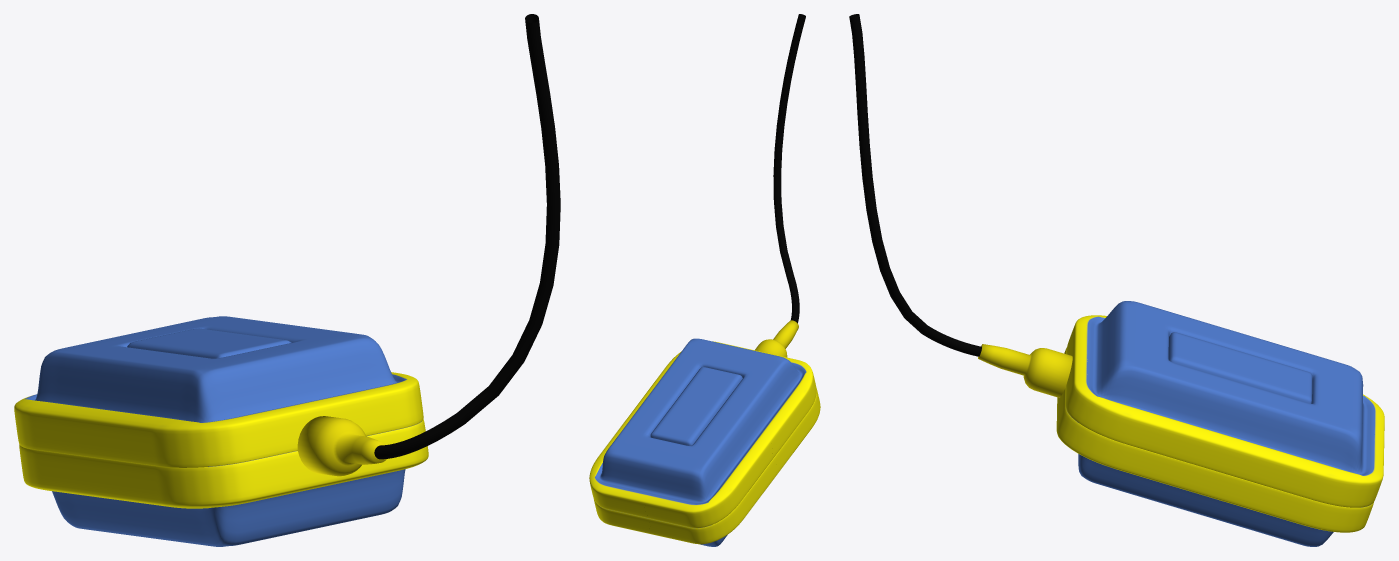
The picture shows the model from 3 angles, left to right: view 1: azimuth 30°, elevation 25°; view 2: azimuth 150°, elevation 25°; view 3: azimuth 270°, elevation 25°; orthographic projection. The views are drawn at different scales.
Visible parts, largest first — view 1: Cube.002, BézierCurve, Cylinder; view 2: Cube.002, BézierCurve, Cylinder; view 3: Cube.002, BézierCurve, Cylinder.
Part boxes in pixels (x1,y1,x2,y2): Cube.002: [14, 316, 428, 546]; BézierCurve: [374, 14, 560, 459]; Cylinder: [297, 416, 386, 476]; Cube.002: [589, 338, 820, 546]; BézierCurve: [773, 14, 805, 323]; Cylinder: [755, 320, 798, 357]; Cube.002: [1056, 301, 1384, 546]; BézierCurve: [849, 14, 981, 356]; Cylinder: [978, 344, 1072, 397].
Bounding box in the file's own units: 2.51 × 6.7 × 6.15.
3 materials, 1 textured.
